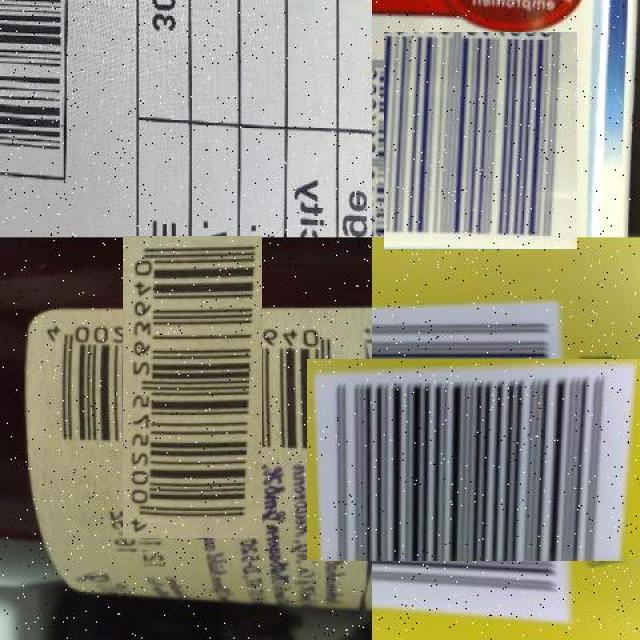Barcode: (339, 326, 608, 594), (82, 277, 303, 498), (378, 37, 583, 243), (0, 0, 66, 172)
